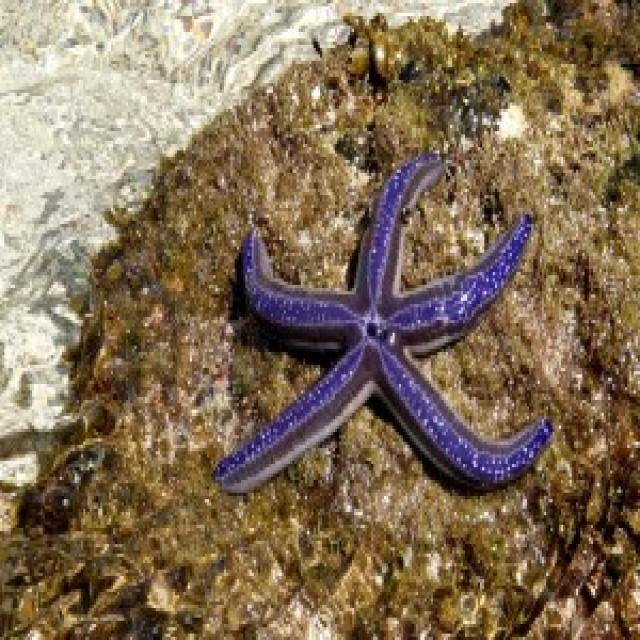Starfish: (214, 148, 556, 508)
